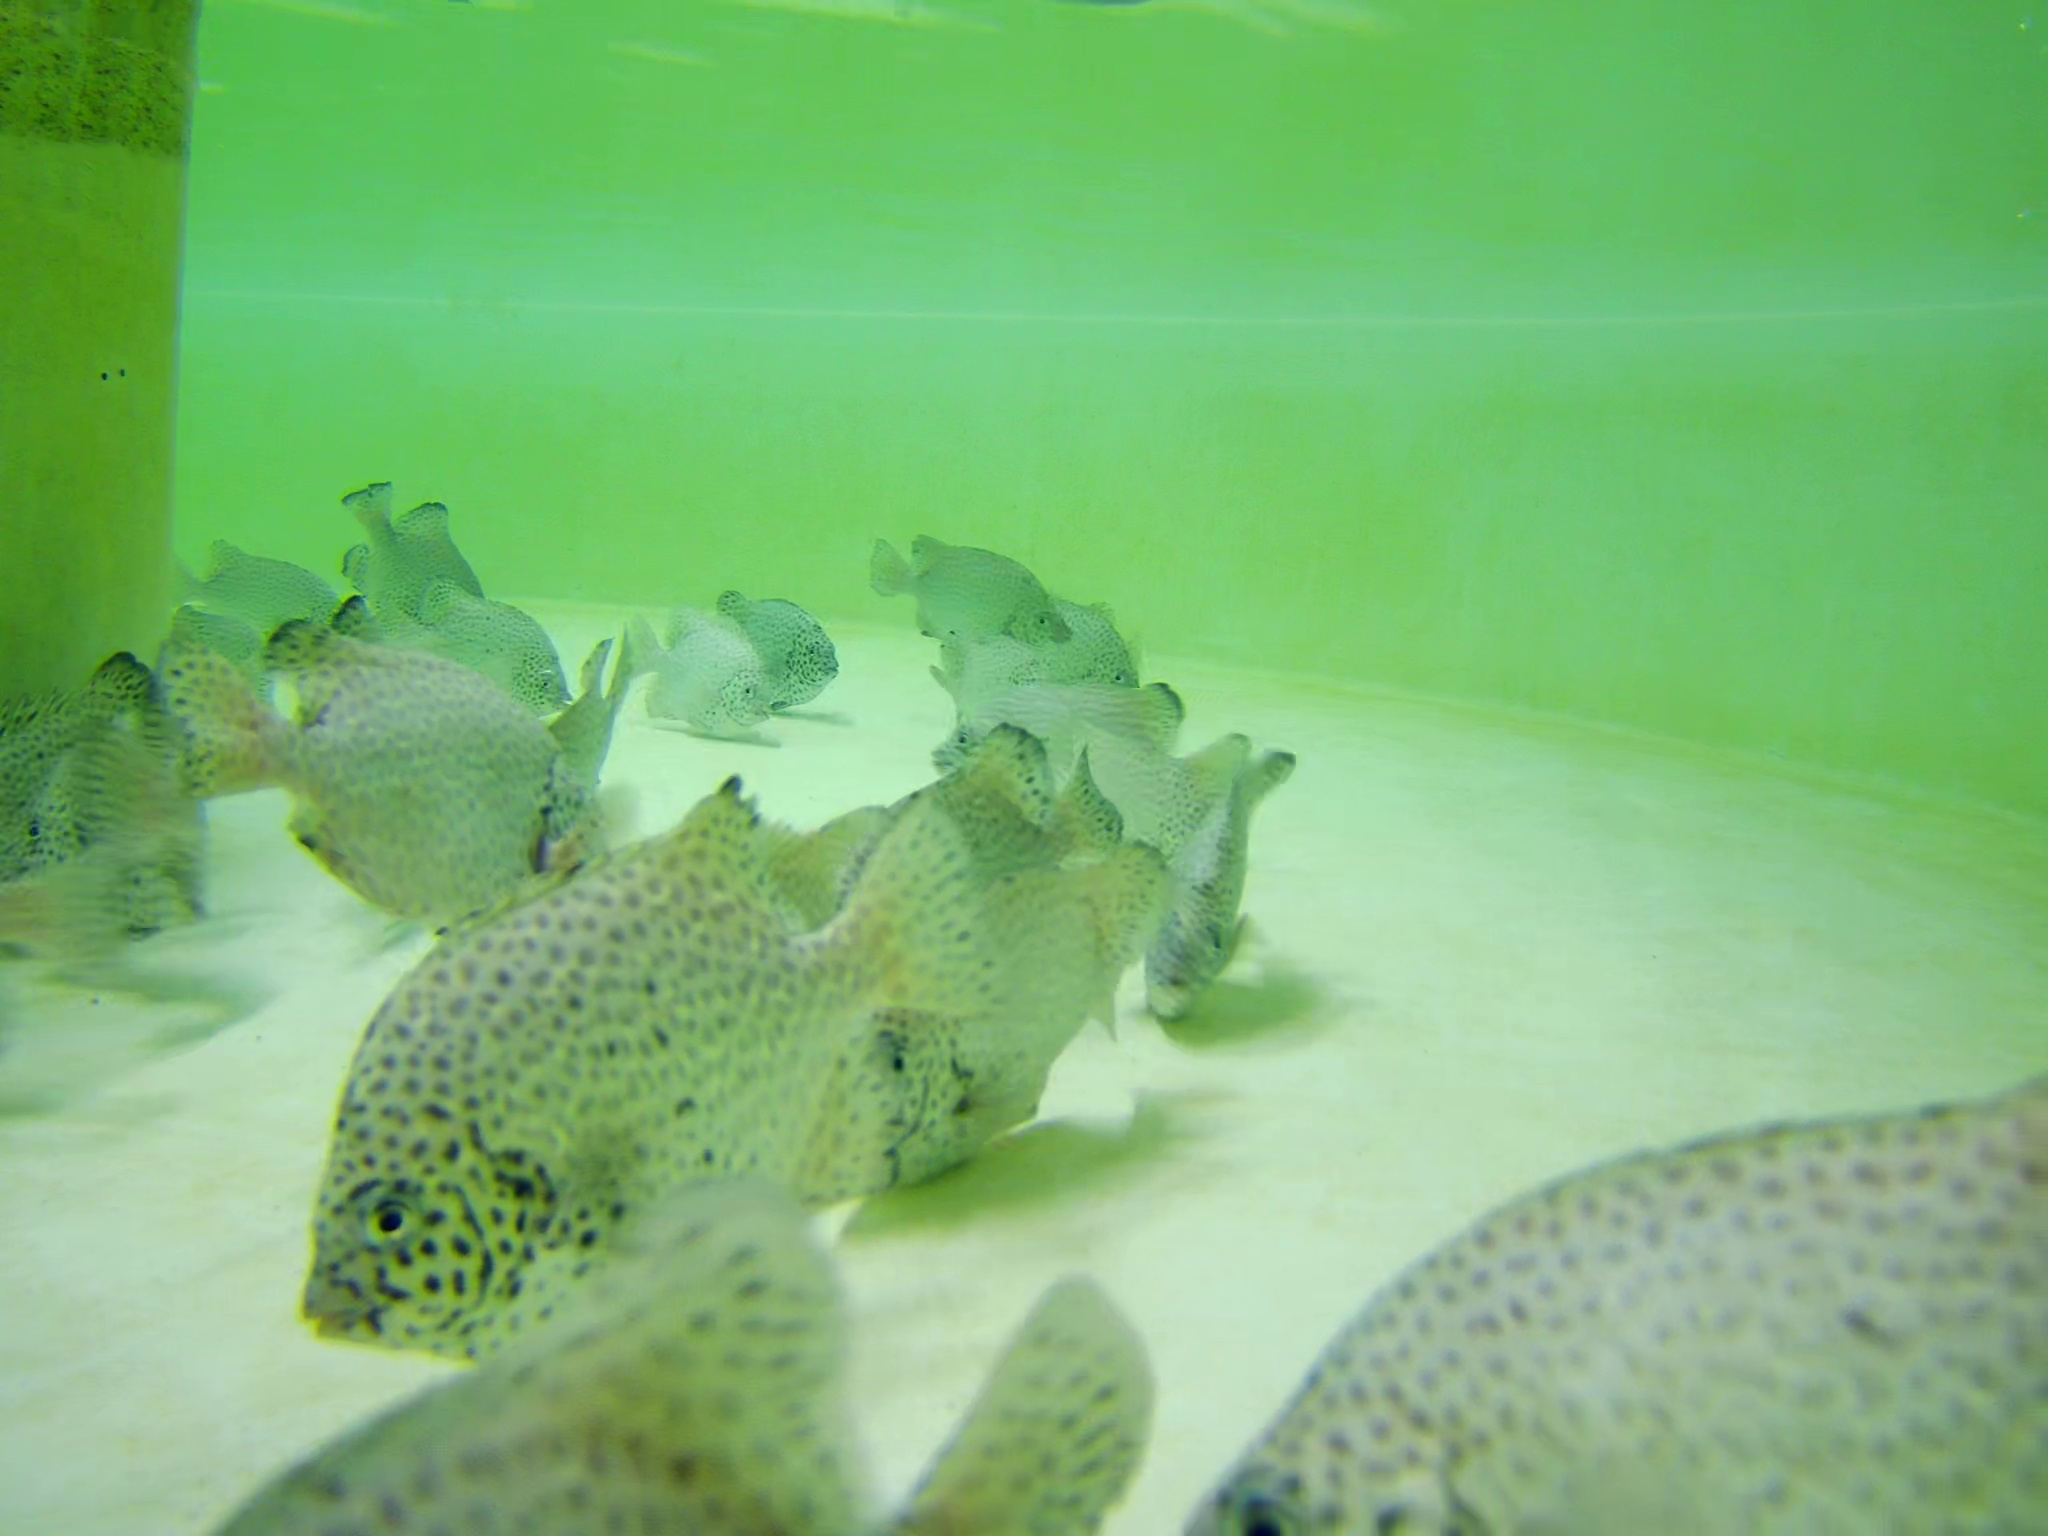fish: (1148, 1055, 2048, 1536), (290, 773, 1053, 1325), (160, 1207, 1153, 1536), (166, 649, 608, 915), (1147, 737, 1297, 1031), (921, 676, 1201, 784), (863, 526, 1071, 653), (332, 466, 485, 618), (397, 574, 564, 708), (619, 602, 780, 741), (2, 863, 163, 995), (984, 587, 1142, 703), (173, 539, 331, 636), (703, 591, 843, 697)
